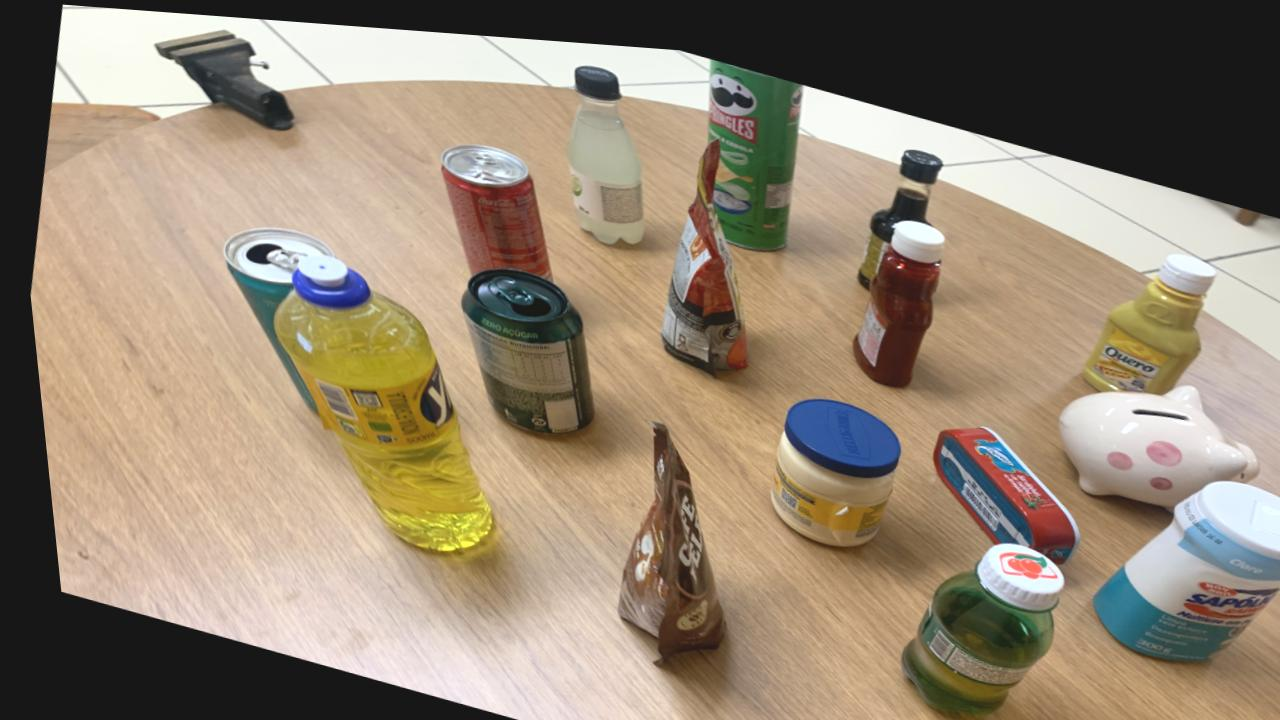Cleaner-Cleanup_Items: (1082, 462, 1280, 644)
Coffee-Pantry_Items: (604, 412, 713, 654)
Coke-Drinks: (437, 137, 546, 272)
Detergent-Cleanup_Items: (267, 250, 481, 545)
English_Sauce-Pantry_Items: (852, 135, 940, 275)
Guarana-Drinks: (888, 528, 1052, 701)
Guarana_Can-Drinks: (455, 261, 586, 426)
Ketchup-Pantry_Items: (847, 206, 940, 374)
Mayonnaise-Pantry_Items: (760, 386, 891, 535)
Mustard-Pantry_Items: (1076, 235, 1212, 377)
Pig_Safe-Miscellaneous: (1051, 367, 1251, 491)
Pringles-Snacks: (705, 49, 802, 239)
Soda-Drinks: (564, 57, 640, 236)
Tea-Drinks: (217, 223, 328, 405)
Tomato_Sauce-Pantry_Items: (655, 130, 740, 364)
Tuna_Can-Pantry_Items: (923, 412, 1070, 549)
